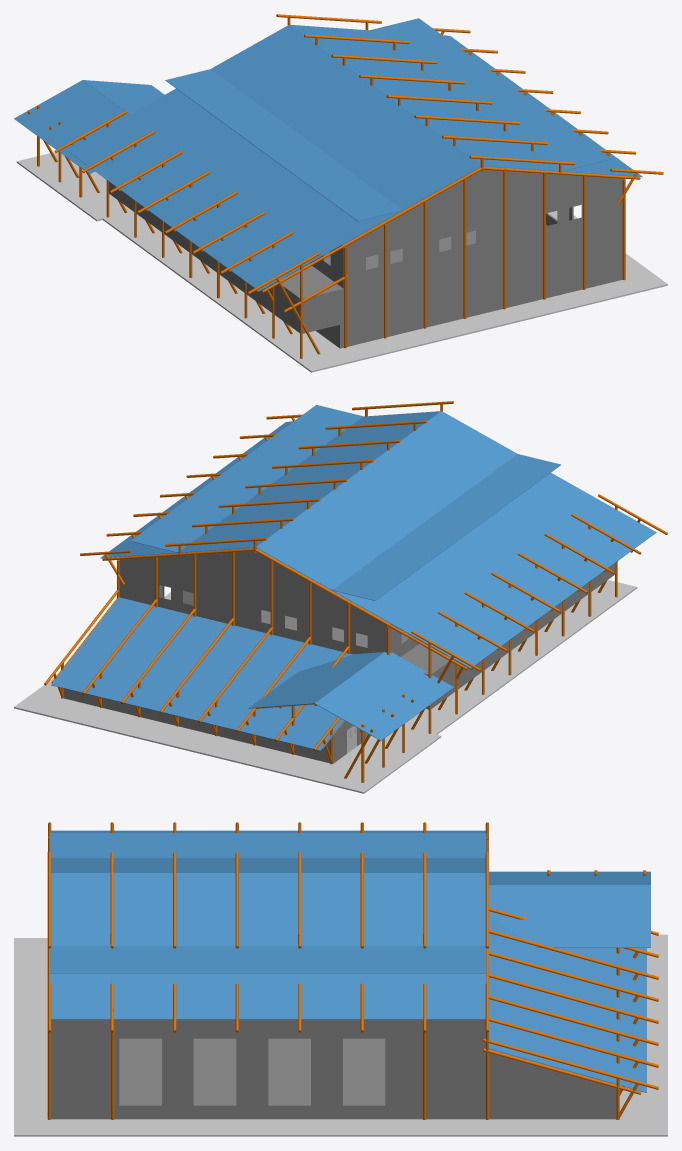
File: exterior.fbx
3 renders of one model, top to bottom at view 1: azimuth 30°, elevation 25°; view 2: azimuth 150°, elevation 25°; view 3: azimuth 270°, elevation 25°, orthographic. The views are drawn at different scales.
Parts seen in each view (by area): view 1: roof_ex, exterior, tube, shadow.000, shadow.003; view 2: roof_ex, exterior, tube, shadow.000, shadow.003; view 3: roof_ex, exterior, tube, shadow.003, shadow.000.
Part boxes in pixels (x1,y1,x2,y2): roof_ex: (66,18,642,291); exterior: (16,152,667,372); tube: (27,14,663,358); shadow.000: (14,80,129,173); shadow.003: (83,80,164,114); roof_ex: (51,405,656,750); exterior: (14,547,637,793); tube: (44,401,667,782); shadow.000: (315,652,453,740); shadow.003: (248,652,384,708); roof_ex: (50,830,646,1092); exterior: (14,934,667,1136); tube: (47,822,658,1119); shadow.003: (489,885,650,947); shadow.000: (489,871,650,884).
Size of the model in its own units: 50.98 by 21.49 by 61.42.
